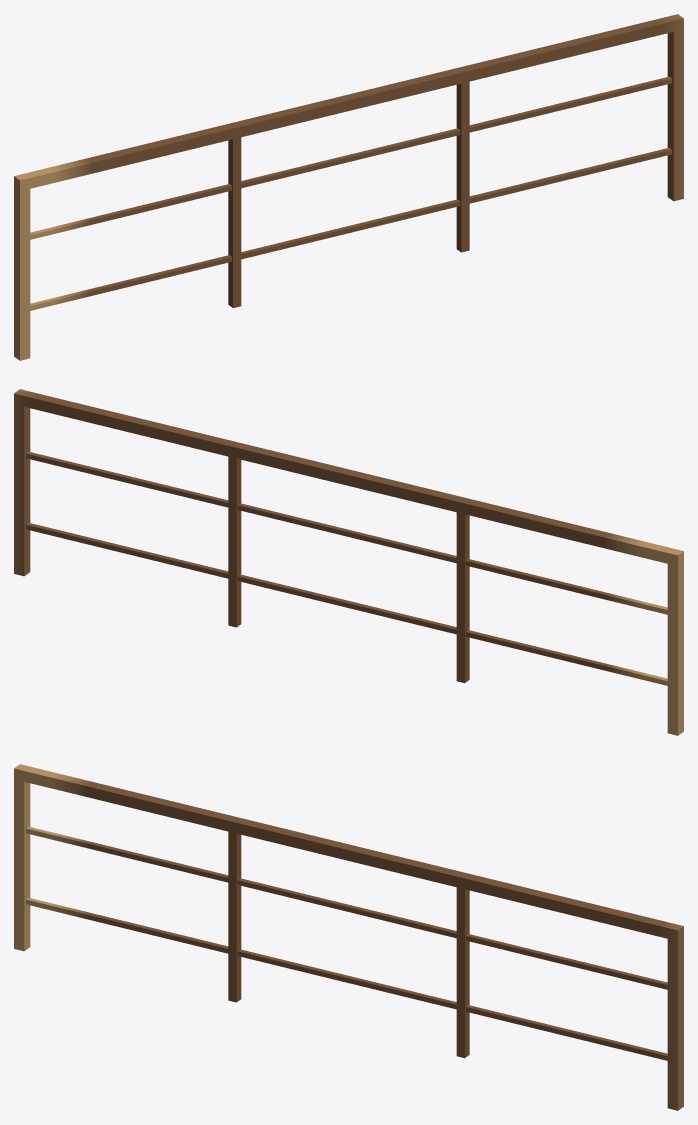
The model's file is DBK_Stairs_Rail_Metal_Long.fbx.
The picture shows the model from 3 angles, top to bottom: view 1: azimuth 30°, elevation 25°; view 2: azimuth 150°, elevation 25°; view 3: azimuth 330°, elevation 25°; orthographic projection.
Parts seen in each view (by area): view 1: DBK_Stairs_Rail_Metal_Long; view 2: DBK_Stairs_Rail_Metal_Long; view 3: DBK_Stairs_Rail_Metal_Long.
Boxes of the visible parts, <box> form: DBK_Stairs_Rail_Metal_Long: <box>14,14,683,360</box>; DBK_Stairs_Rail_Metal_Long: <box>14,389,683,735</box>; DBK_Stairs_Rail_Metal_Long: <box>14,764,683,1110</box>.
Size of the model in its own units: 291 by 75.51 by 4.53.
